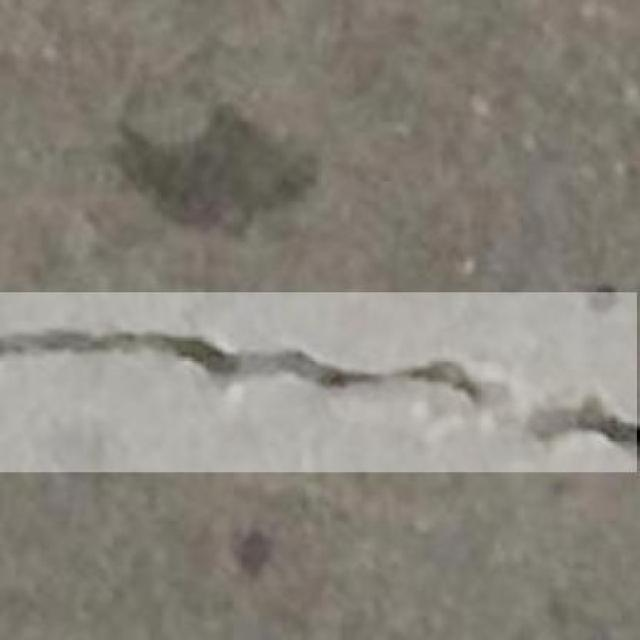Crack: (0, 291, 640, 464)
